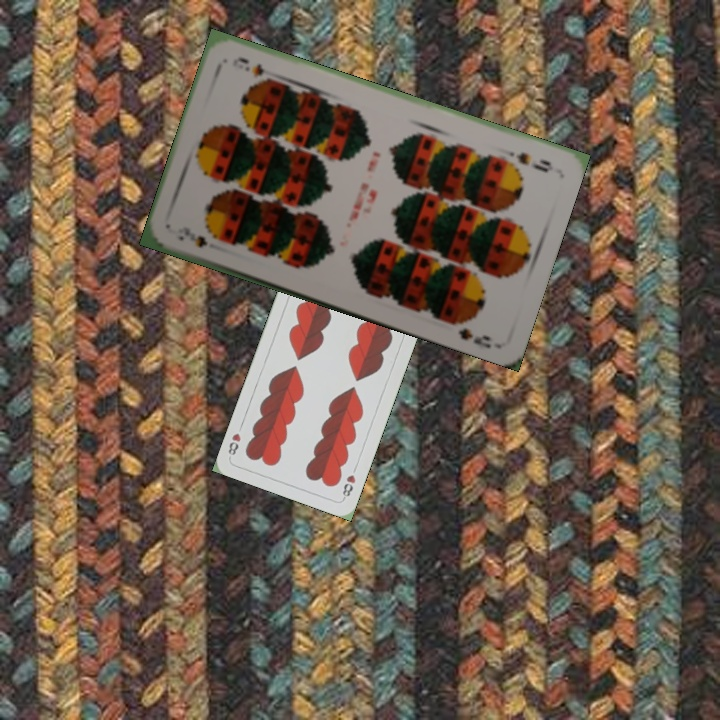H8: (338, 470, 358, 502)
S9: (512, 148, 554, 175), (173, 222, 210, 251)
